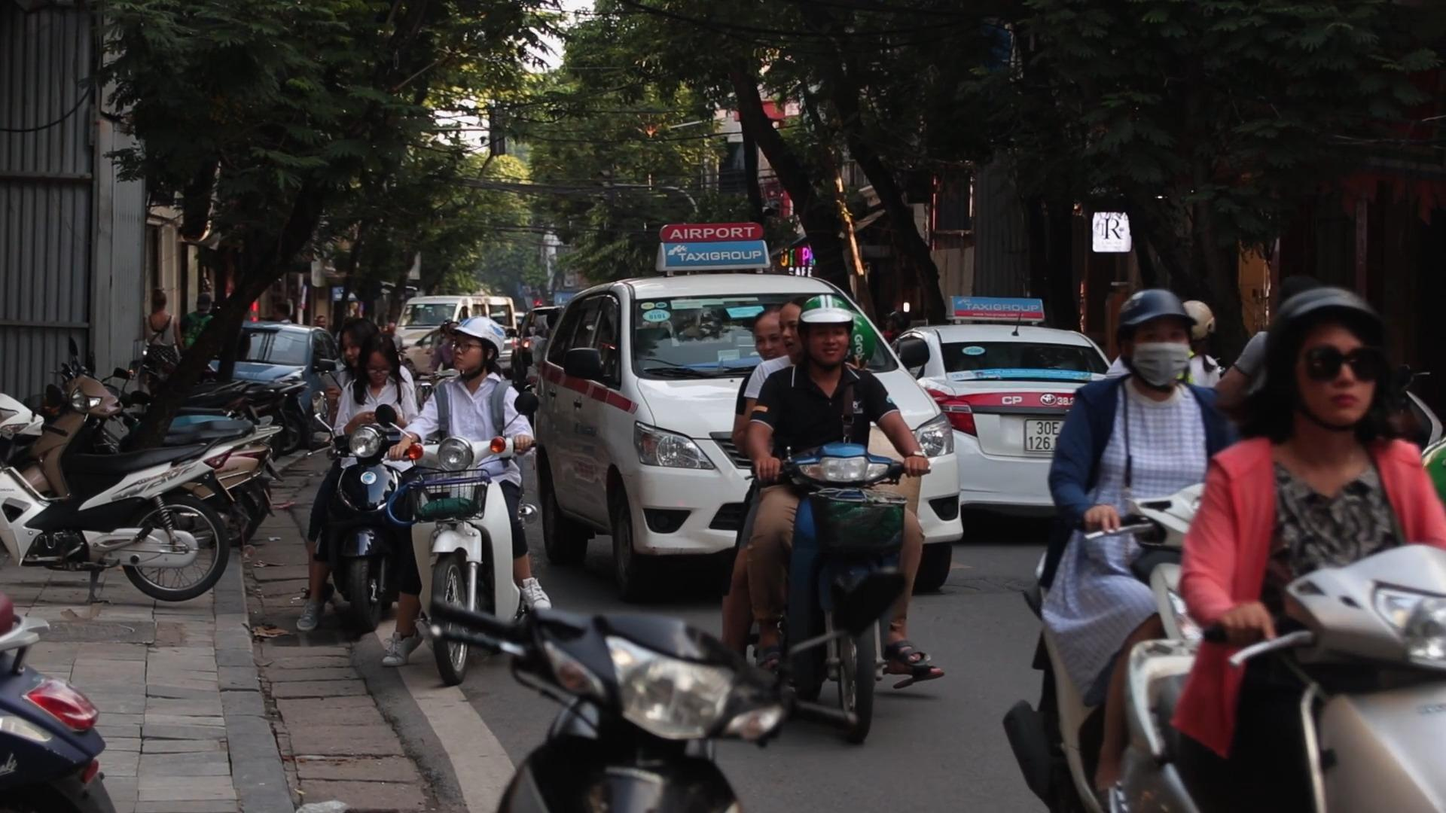driver: (1106, 285, 1446, 813), (721, 294, 945, 744), (374, 317, 552, 685), (296, 318, 419, 632)
helmet: (1266, 284, 1384, 431), (1117, 289, 1198, 394), (798, 294, 854, 369), (449, 317, 505, 382)
no-helmet: (359, 332, 398, 385), (752, 306, 783, 360), (779, 298, 804, 354), (340, 318, 363, 368)
